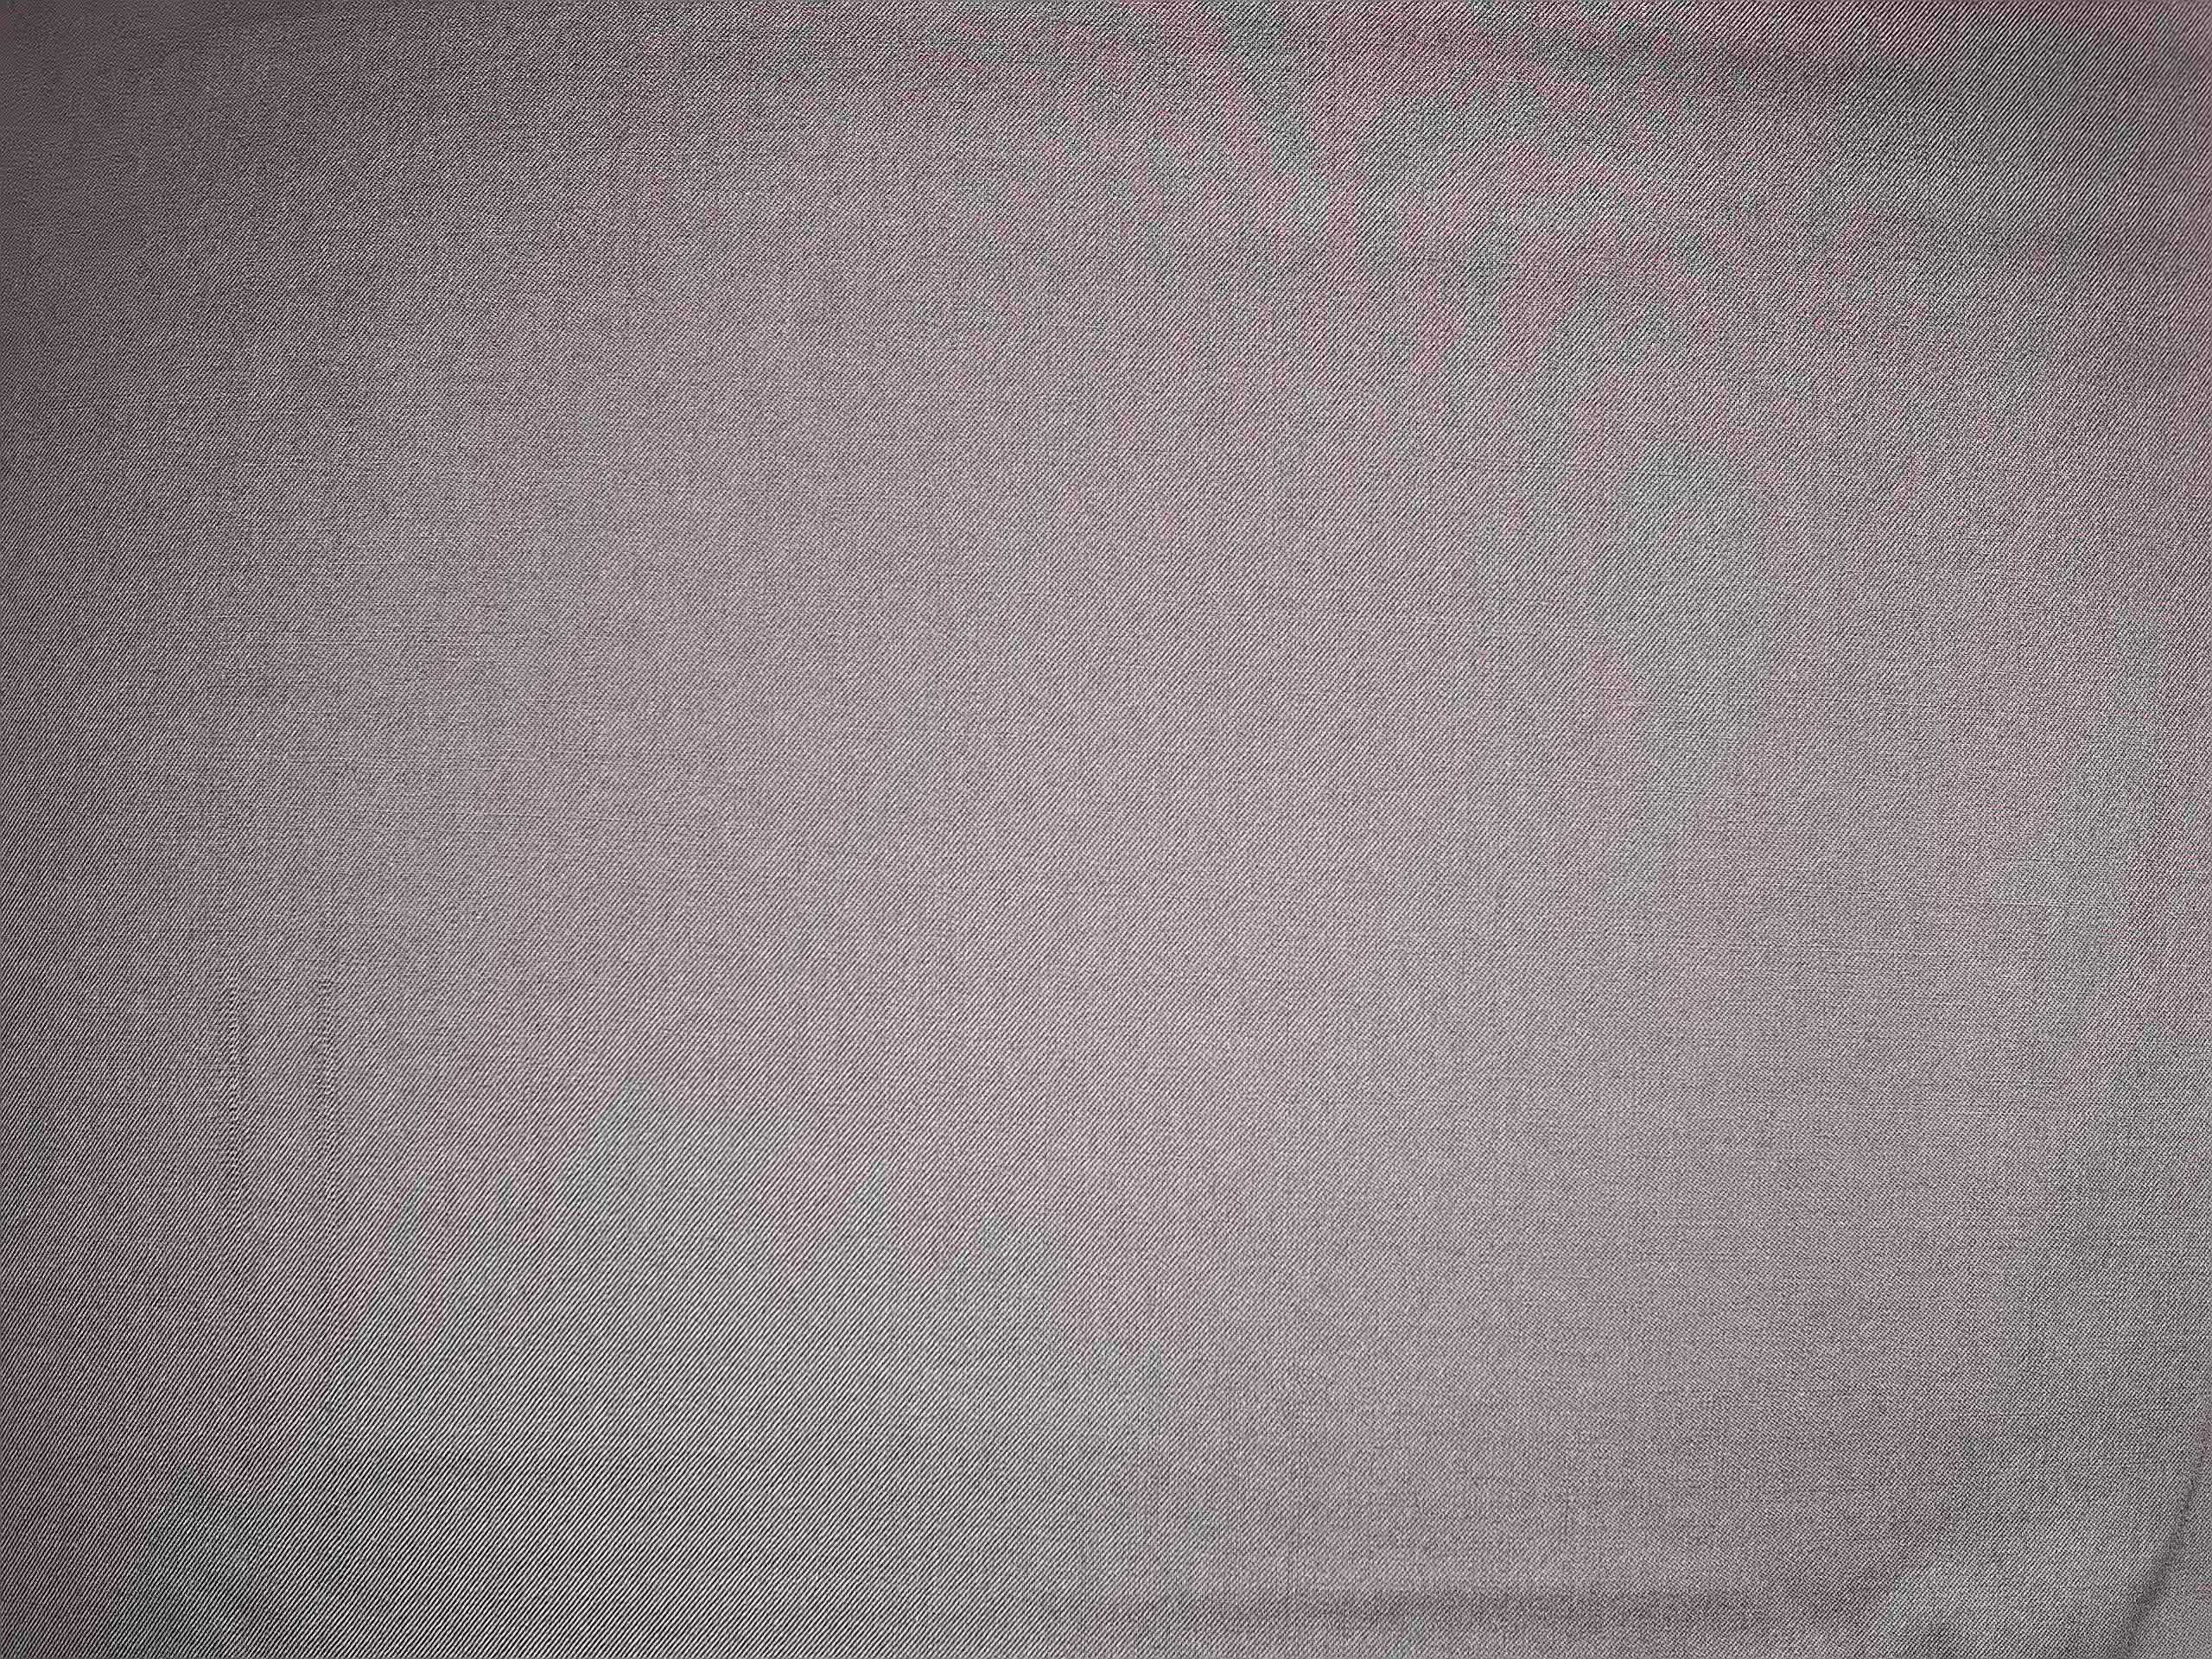hanging-warp: (310, 945, 347, 1406), (211, 941, 256, 1314)
